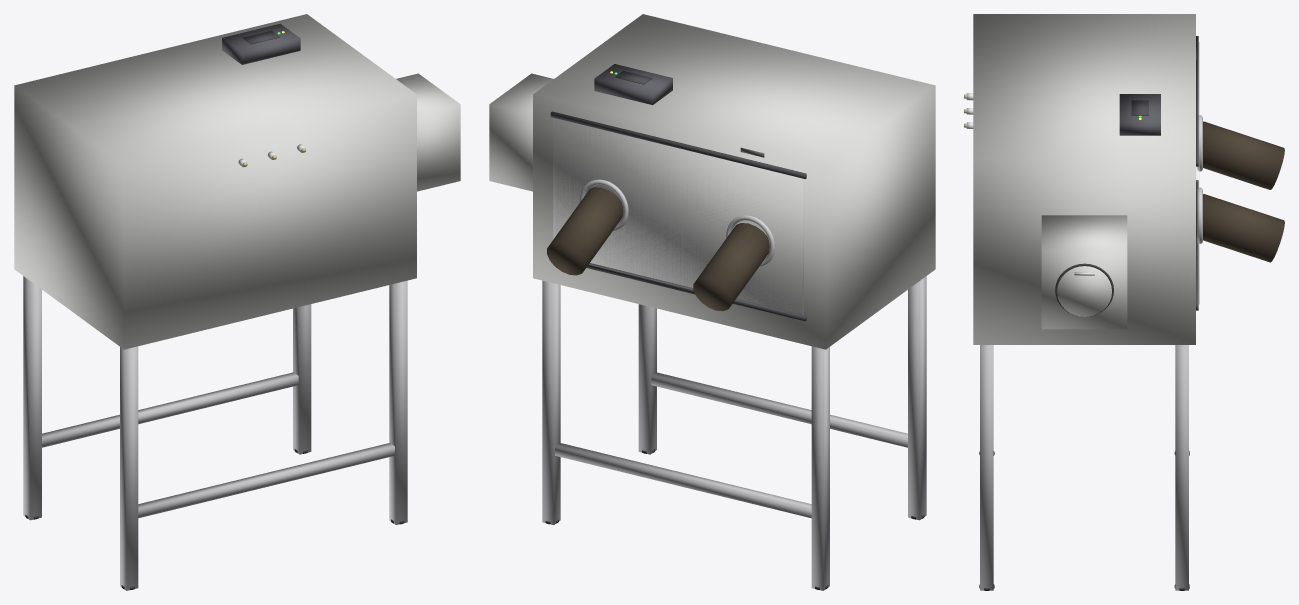
File: glove_box.glb
3 renders of one model, left to right at view 1: azimuth 30°, elevation 25°; view 2: azimuth 150°, elevation 25°; view 3: azimuth 270°, elevation 25°, orthographic.
Visible parts, largest first — view 1: Chamber_Main, Leg_3, Antechamber, Leg_1, Leg_2, Brace_Back, Brace_Front, Leg_0, ControlPanel; view 2: Chamber_Main, FrontWindow, Leg_2, Antechamber, Leg_0, Leg_3, Glove_R, Glove_L, Brace_Front, Brace_Back, Leg_1, ControlPanel (+2 smaller); view 3: Chamber_Main, Antechamber, Glove_R, Glove_L, Leg_0, Leg_1, AnteDoor, ControlPanel, FrontWindow.
Boxes of the visible parts, x1,y1,x2,y2 form: Chamber_Main: [14, 14, 416, 349]; Leg_3: [120, 346, 138, 590]; Antechamber: [396, 73, 460, 191]; Leg_1: [389, 280, 407, 524]; Leg_2: [23, 276, 41, 520]; Brace_Back: [138, 443, 394, 518]; Brace_Front: [42, 372, 298, 447]; Leg_0: [293, 304, 311, 454]; ControlPanel: [222, 23, 300, 64]; Chamber_Main: [533, 14, 935, 349]; FrontWindow: [553, 118, 803, 316]; Leg_2: [811, 346, 829, 590]; Antechamber: [489, 73, 553, 191]; Leg_0: [542, 280, 560, 524]; Leg_3: [908, 276, 926, 520]; Glove_R: [547, 187, 623, 275]; Glove_L: [693, 223, 769, 311]; Brace_Front: [555, 443, 811, 518]; Brace_Back: [651, 372, 907, 447]; Leg_1: [638, 304, 656, 454]; ControlPanel: [594, 64, 672, 104]; Chamber_Main: [973, 14, 1195, 344]; Antechamber: [1041, 215, 1127, 329]; Glove_R: [1196, 194, 1284, 262]; Glove_L: [1203, 121, 1284, 189]; Leg_0: [1175, 345, 1188, 590]; Leg_1: [980, 345, 993, 590]; AnteDoor: [1057, 266, 1111, 316]; ControlPanel: [1119, 94, 1160, 135]; FrontWindow: [1196, 42, 1199, 304].
Bounding box in the file's own units: 1.28 × 1.45 × 0.9367.
